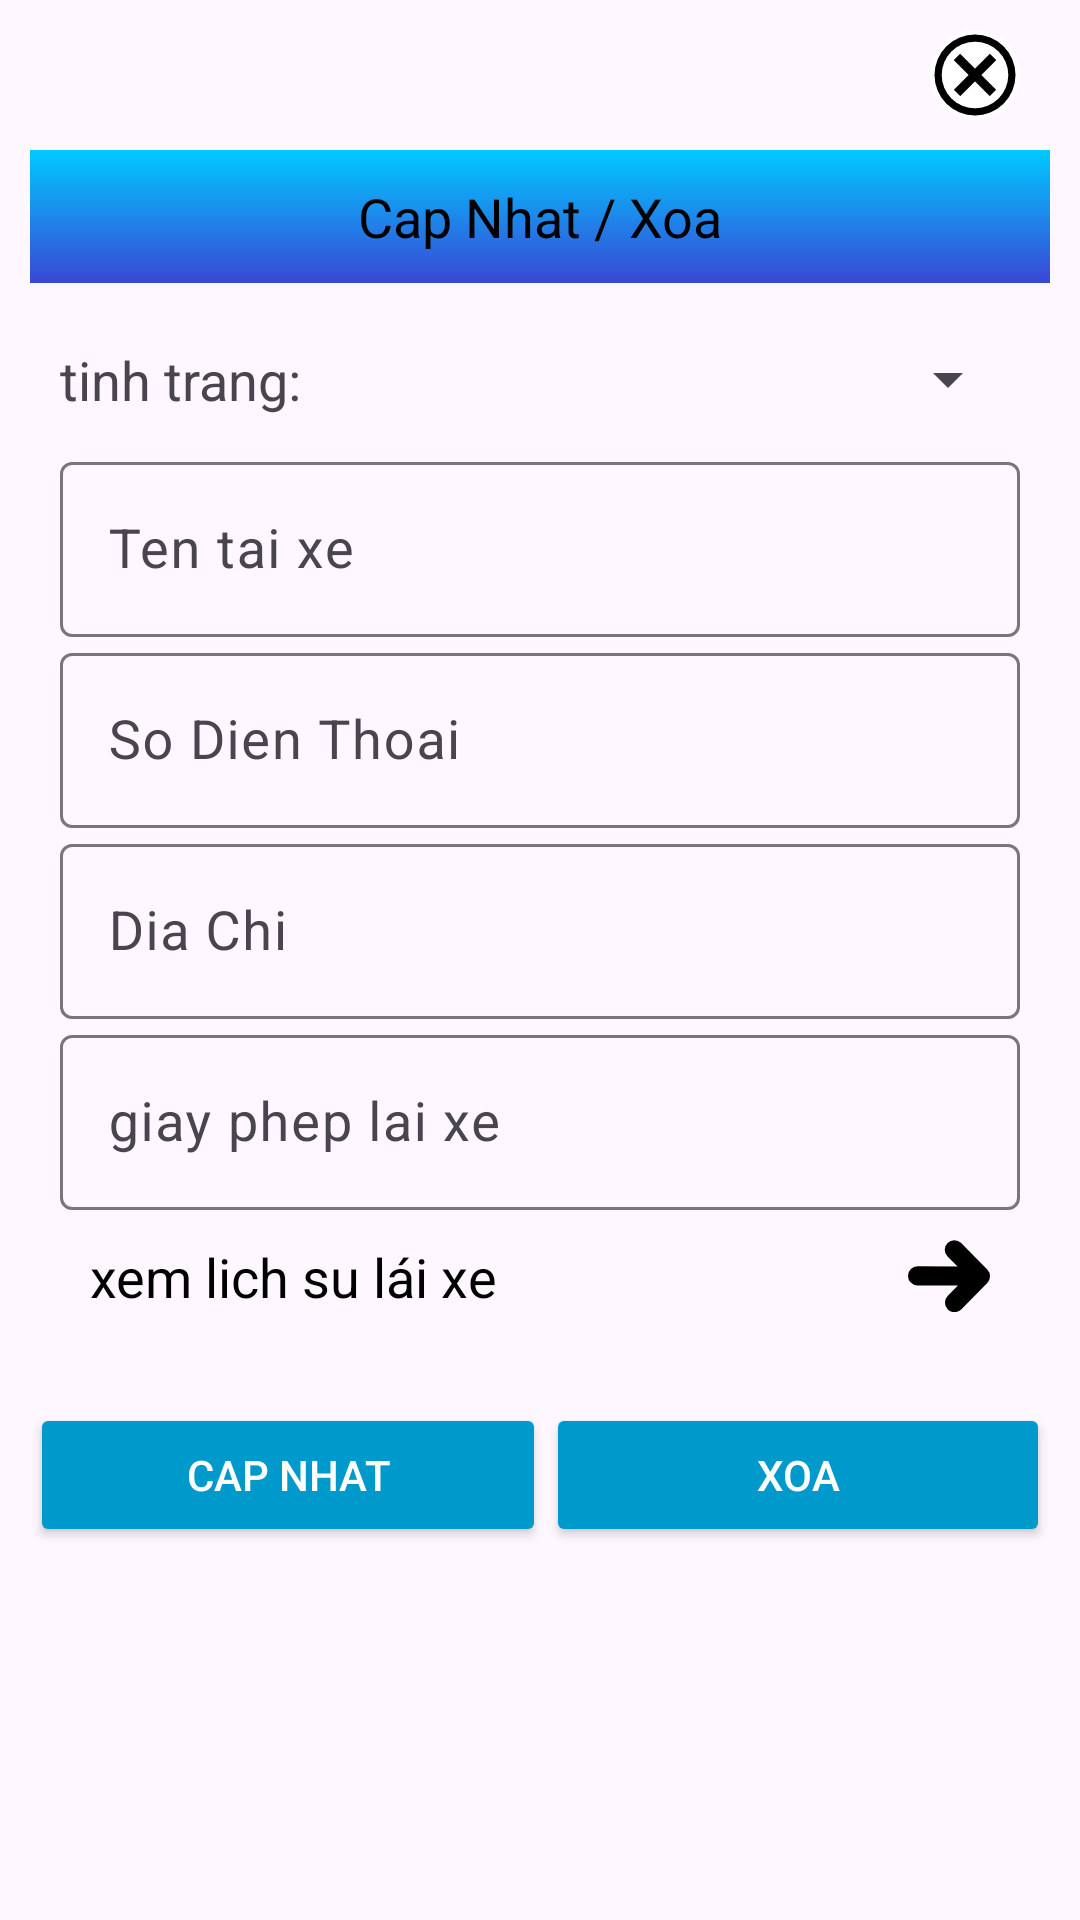

Where icons sit on this 1080w x 1920h app screen, as {"x1": x1, "y1": y1, "x2": x2, "y2": y2}:
cancel: {"x1": 934, "y1": 34, "x2": 1016, "y2": 116}
